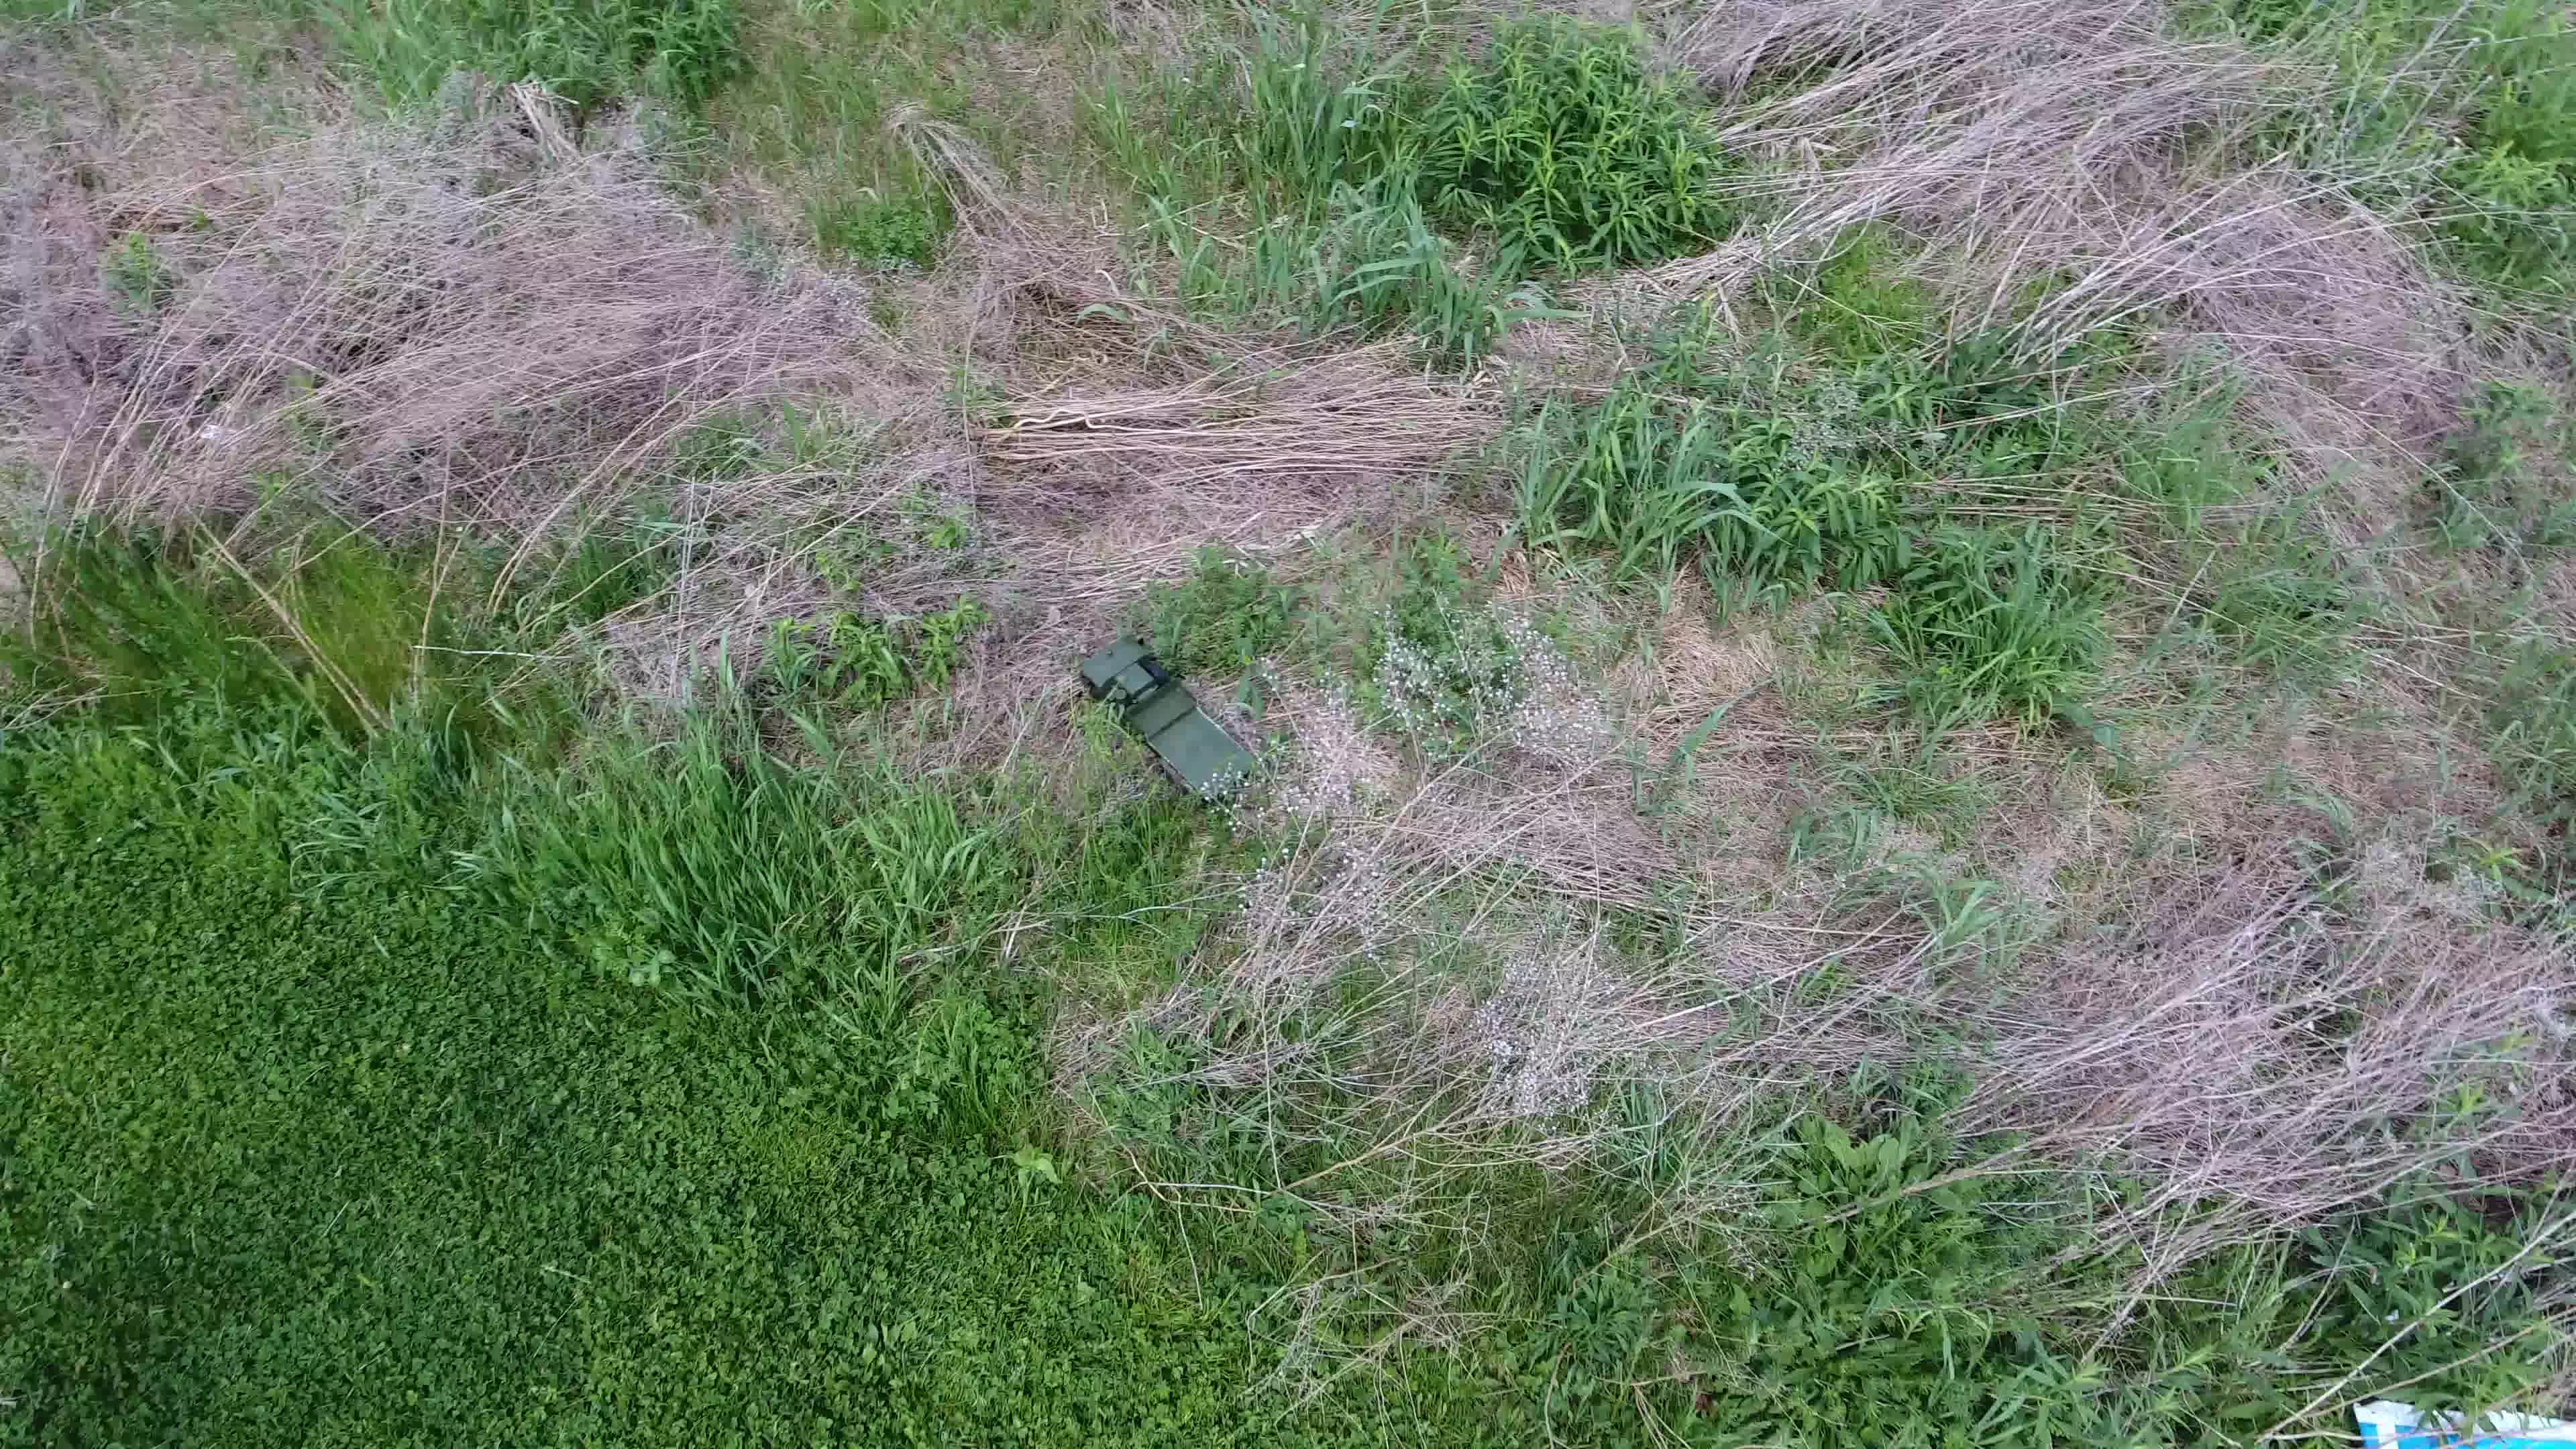transporter9: (1069, 630, 1272, 814)
